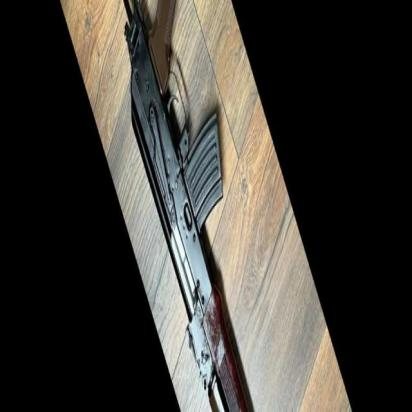Gun: (125, 0, 248, 412)
